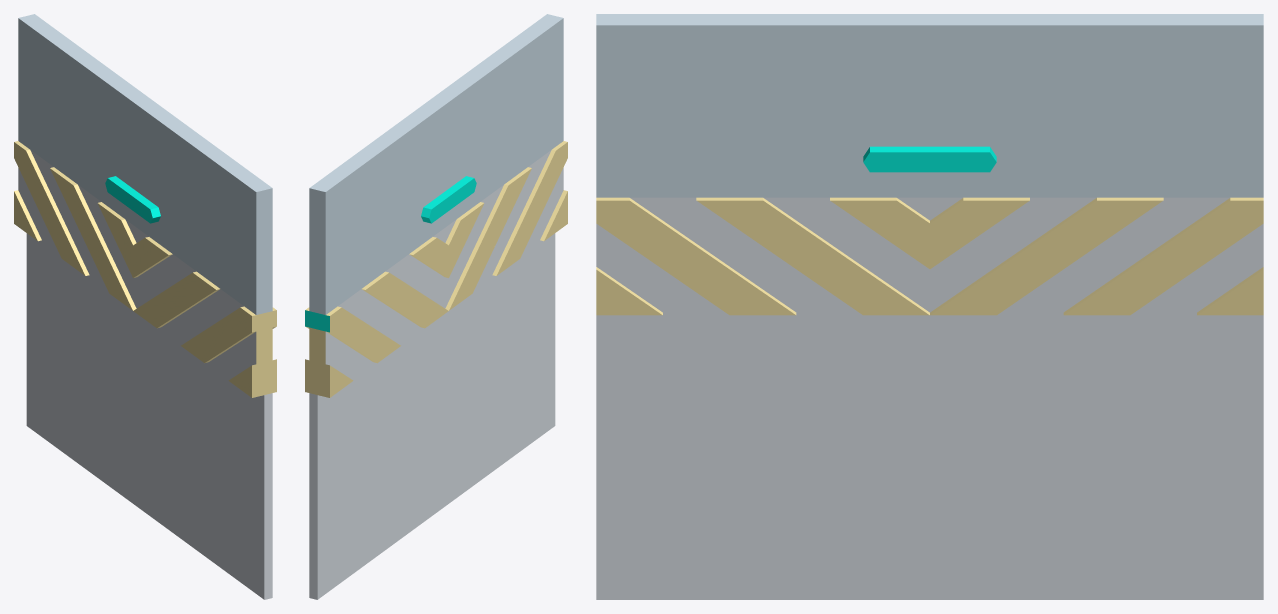
File: door-04.fbx
The picture shows the model from 3 angles, left to right: view 1: azimuth 30°, elevation 25°; view 2: azimuth 150°, elevation 25°; view 3: azimuth 270°, elevation 25°; orthographic projection. The views are drawn at different scales.
Parts seen in each view (by area): view 1: door-04-top, door-04-bottom; view 2: door-04-top, door-04-bottom; view 3: door-04-top, door-04-bottom.
Boxes of the visible parts, x1,y1,x2,y2 form: door-04-top: (14,14,276,397); door-04-bottom: (26,233,272,599); door-04-top: (305,14,567,397); door-04-bottom: (309,233,555,599); door-04-top: (596,14,1263,315); door-04-bottom: (596,312,1263,599).
Size of the model in its own units: 8 by 95 by 100.
